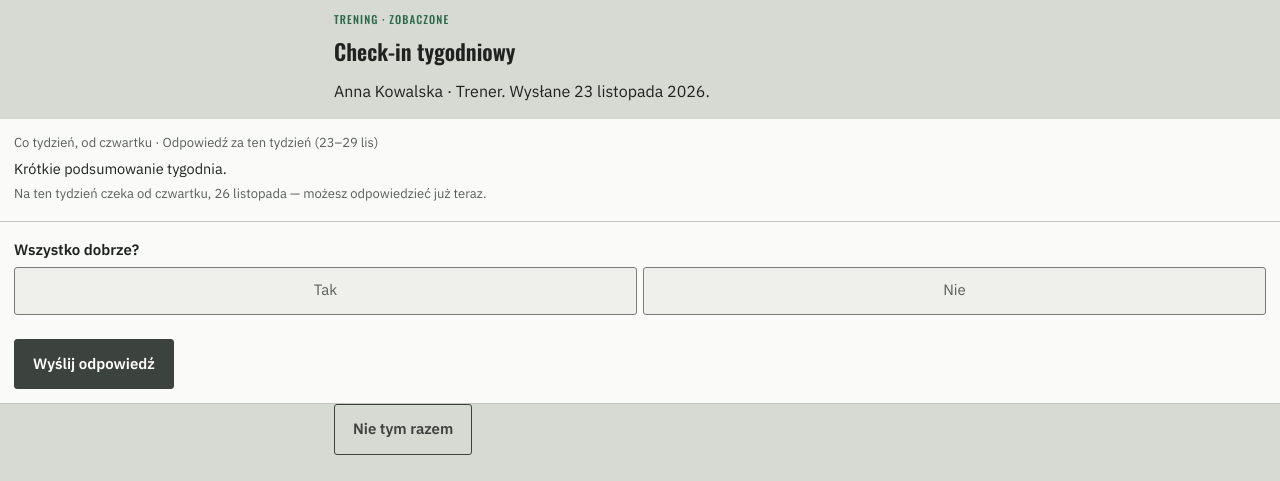
it: formularz od prowadzącego › cotygodniowy przed swoim dniem: mówi, od kiedy czeka, ale przyjmuje odpowiedź już teraz
expect the text "Na ten tydzień czeka od czwartku, 26 listopada — możesz odpowiedzieć już teraz." is shown: met, box 14,184 -> 498,203
Step 1. Click the button "Nie" → [954, 291], box 643,267 -> 1266,315
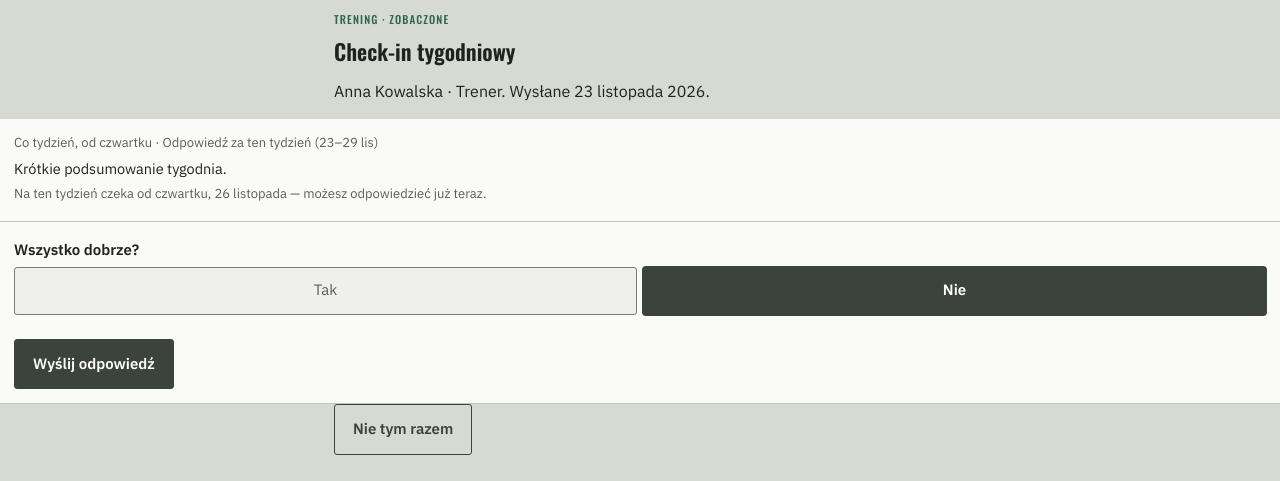
Step 2. Click the button "Wyślij odpowiedź" → [94, 364], box 14,339 -> 174,389
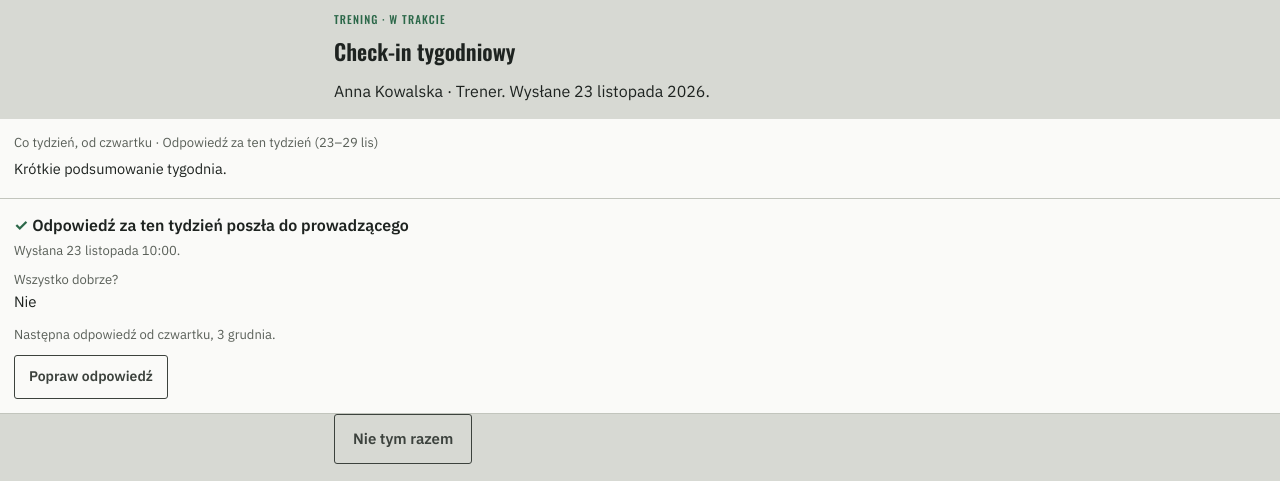
expect the message shows "Następna odpowiedź od czwartku, 3 grudnia.": met, box 14,326 -> 276,343
